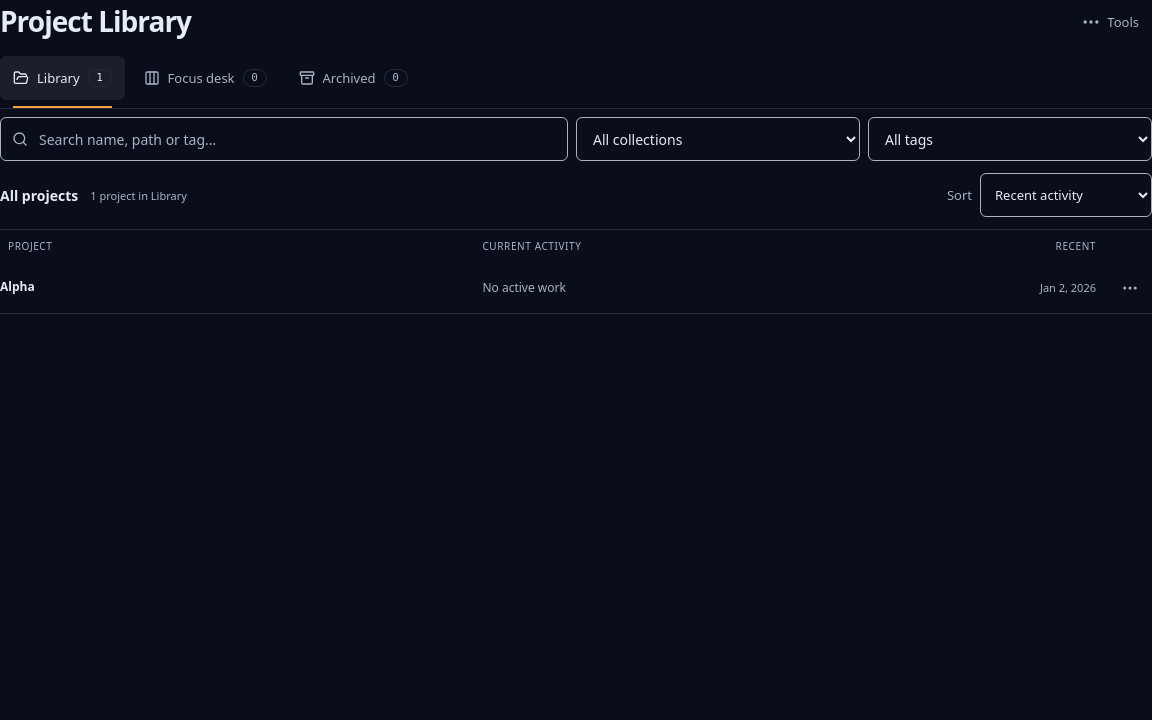
Test: Reviewing and clearing a project's updates › loads details only when opened and retries unavailable event data without implying zero
This screenshot has width=1152, height=720.
Expected: the button with aria-label "Open Alpha" is shown, [0,266,462,310]
Click the button named "Details and organization for Alpha" at (1130, 288), box [1108,266,1151,310]
(page scrolled)
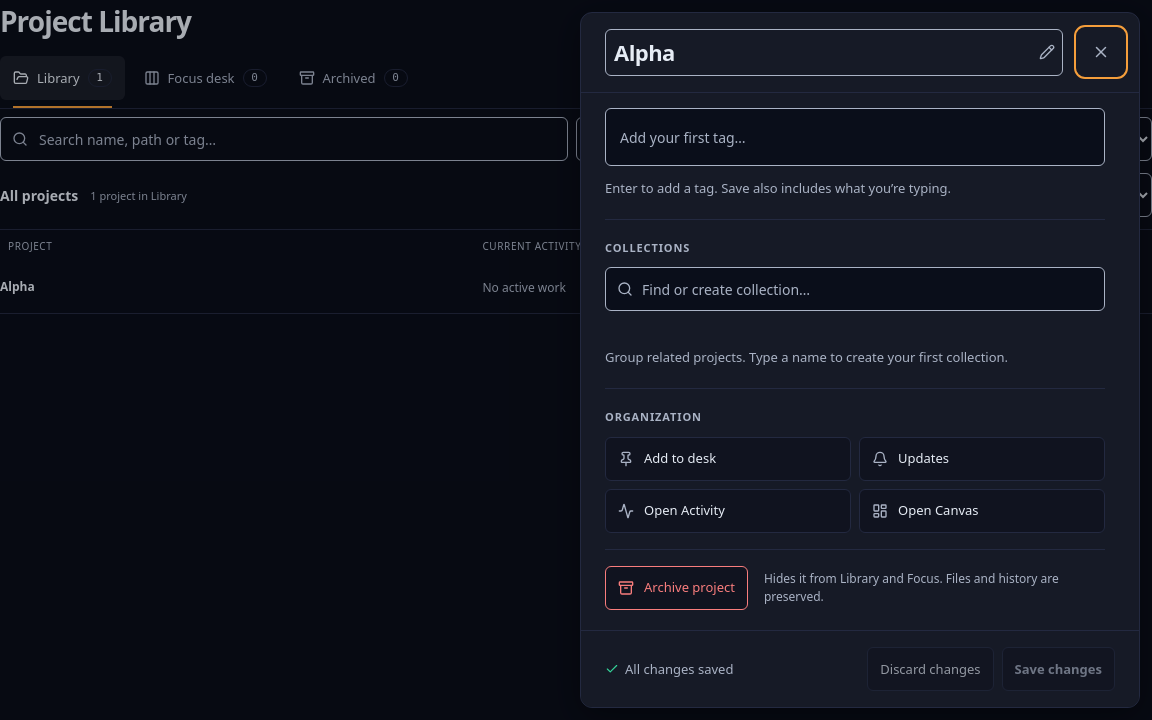
Click the button "Updates" at (982, 458), box [859,436,1105,480]
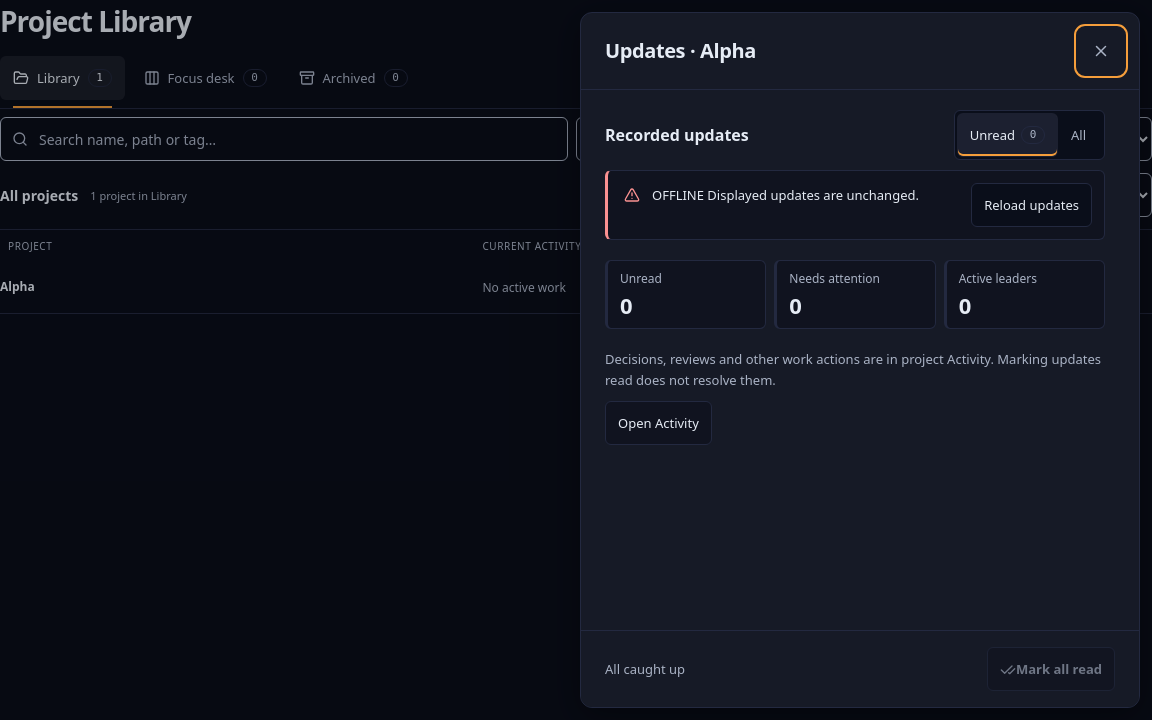
Expected: the button "Mark all read" is disabled, [987,647,1115,691]
Expected: the button "Reload updates" is enabled
Click the button "Reload updates" at (1032, 205), box [971,183,1092,227]
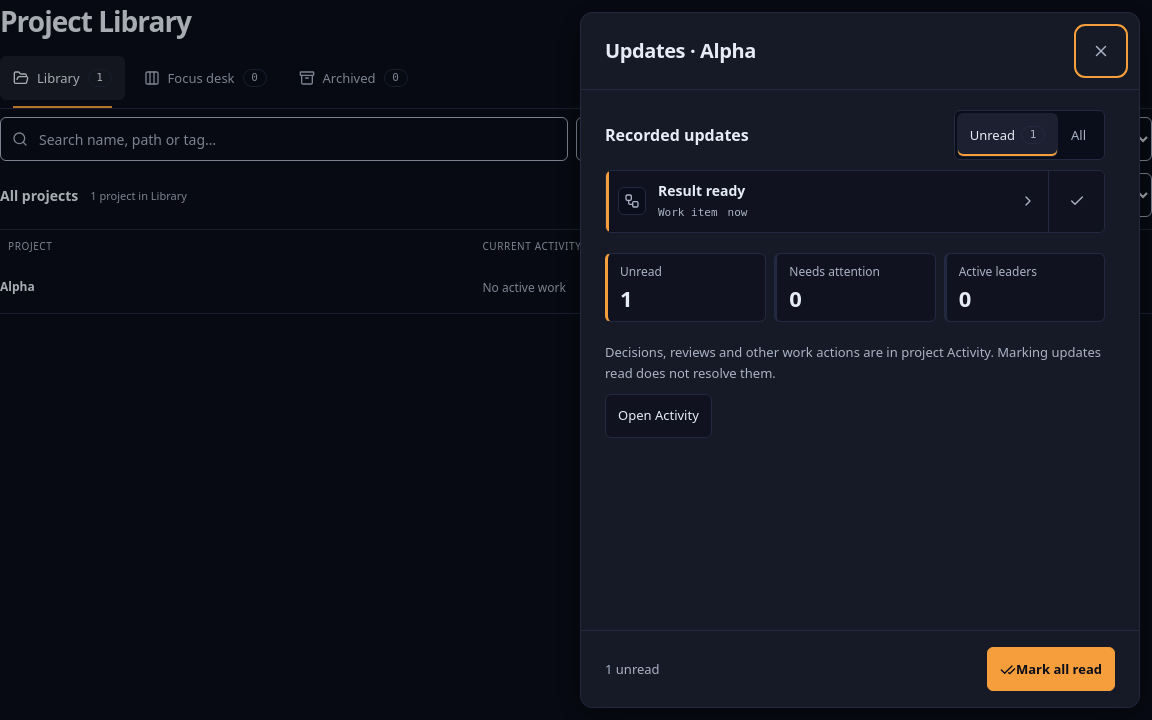
Expected: the text "Result ready" is shown once, [658,181,745,200]
Expected: the button "Mark all read" is enabled, [987,647,1115,691]
